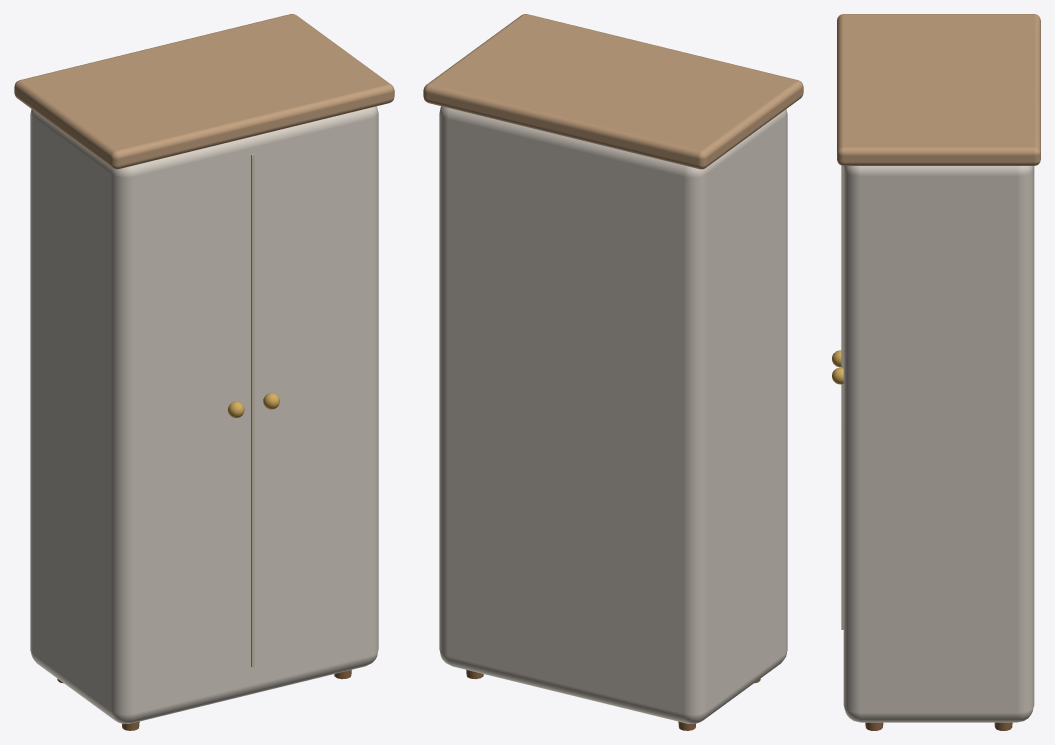
File: furn_wardrobe_ph.glb
3 views of the same model, side by side, from view 1: azimuth 30°, elevation 25°; view 2: azimuth 150°, elevation 25°; view 3: azimuth 270°, elevation 25° (orthographic).
Parts seen in each view (by area): view 1: furn_wardrobe; view 2: furn_wardrobe; view 3: furn_wardrobe.
Boxes of the visible parts, x1,y1,x2,y2 form: furn_wardrobe: (14,14,394,730); furn_wardrobe: (423,14,803,730); furn_wardrobe: (832,14,1040,730).
Size of the model in its own units: 0.96 by 1.93 by 0.6144.
